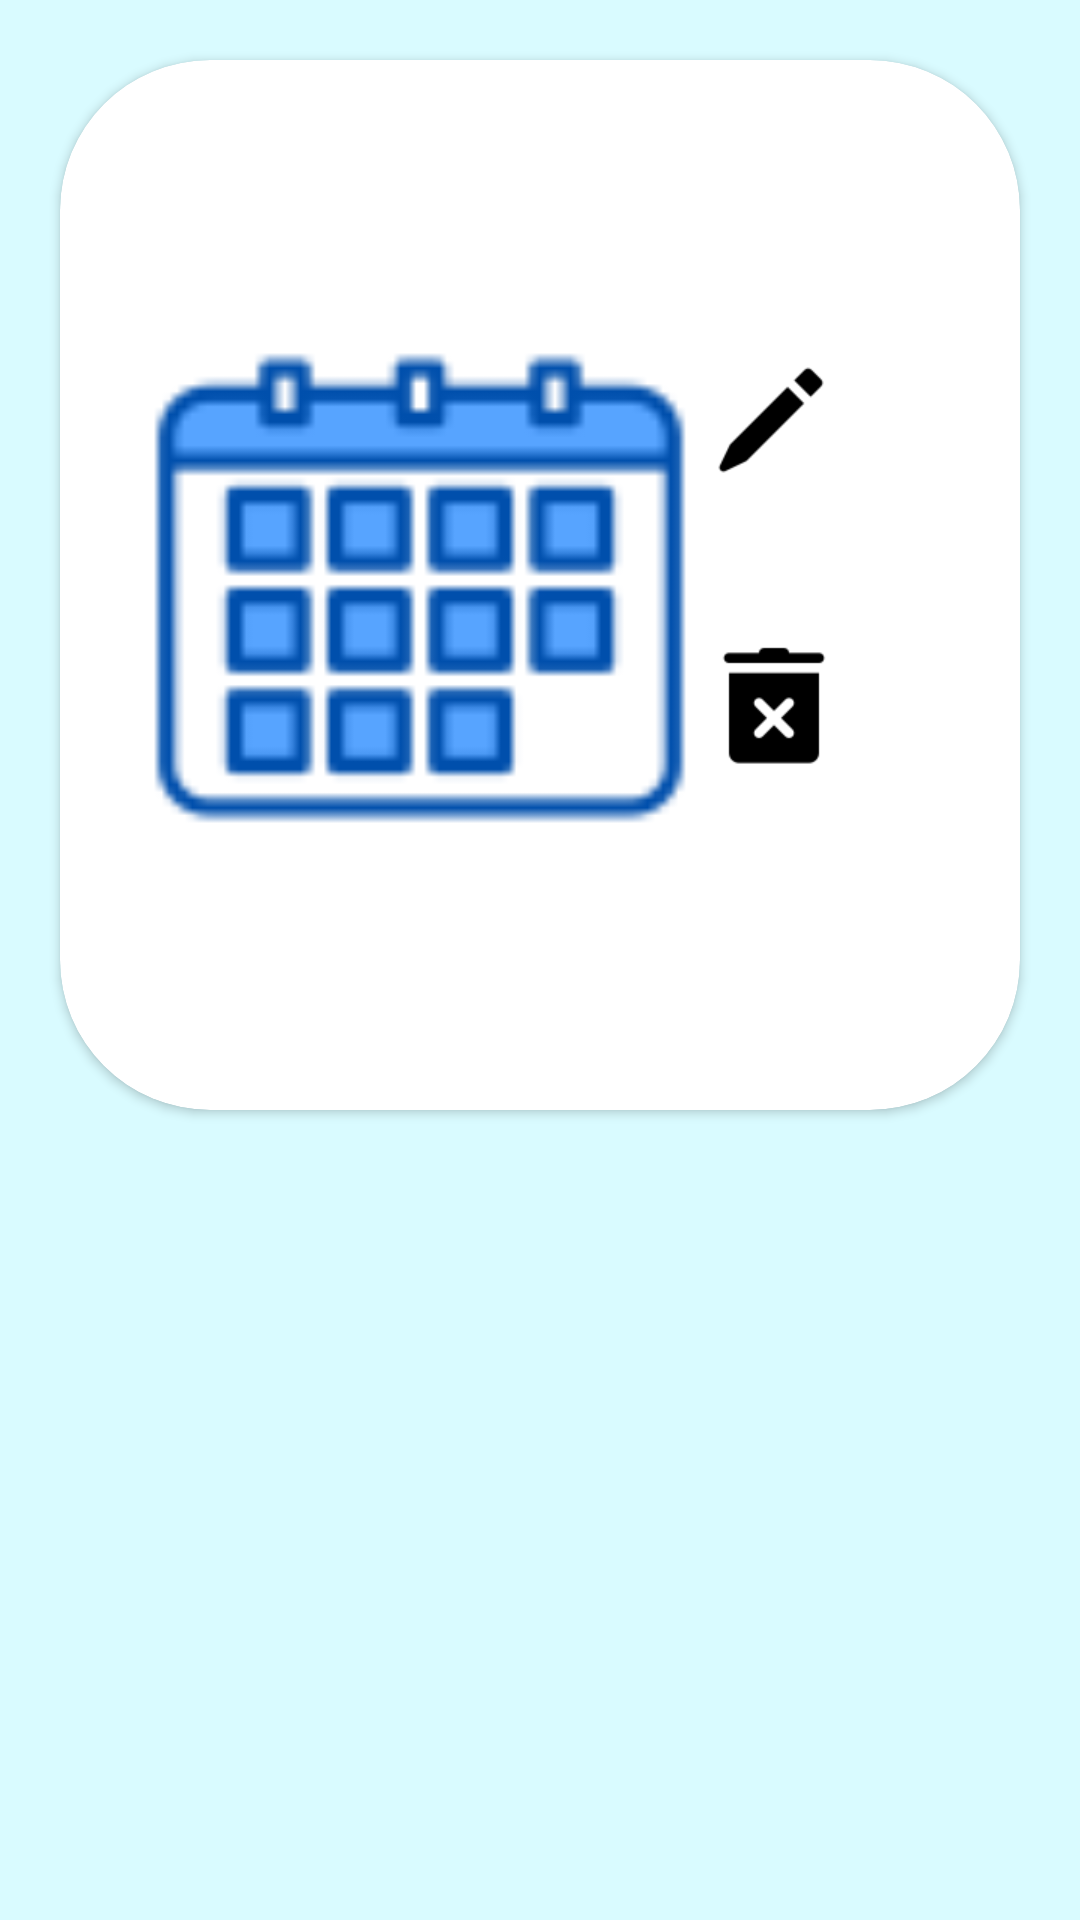

Icons on this 1080w x 1920h Android screen, each with its box as (x1, y1, x2, y2):
edit: (718, 367, 824, 473)
remove: (723, 647, 825, 764)
